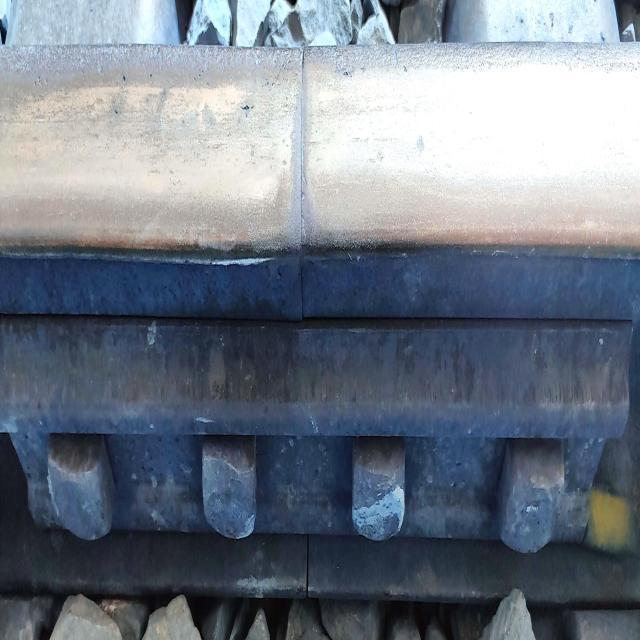Good Joint: (0, 310, 631, 565)
